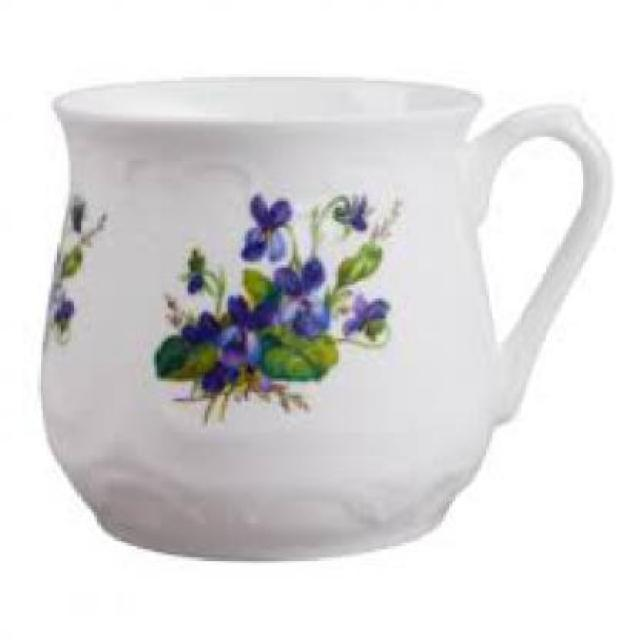cup: (40, 57, 620, 572)
